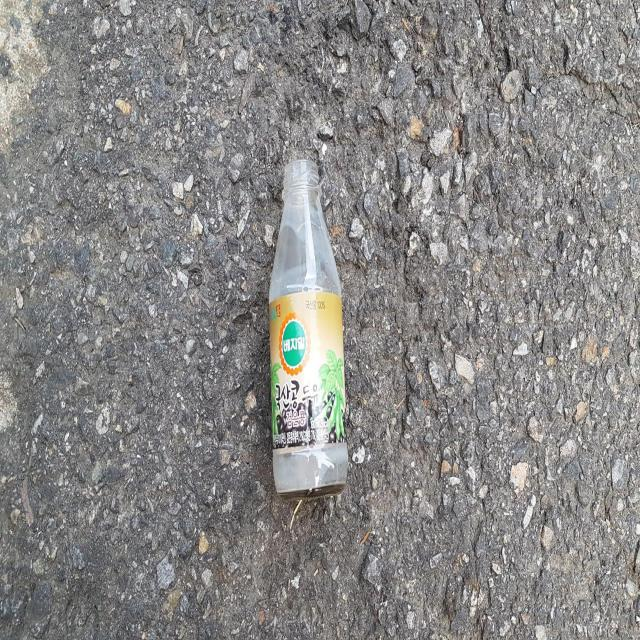glass: (269, 159, 348, 497)
